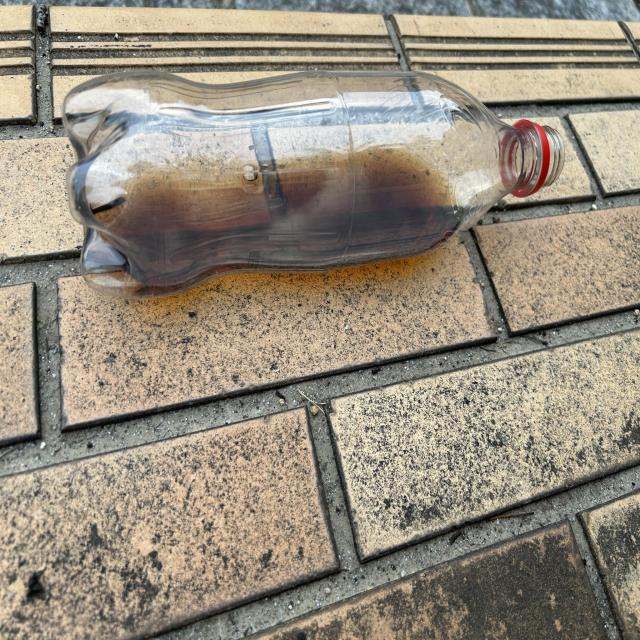low: (62, 71, 564, 298)
